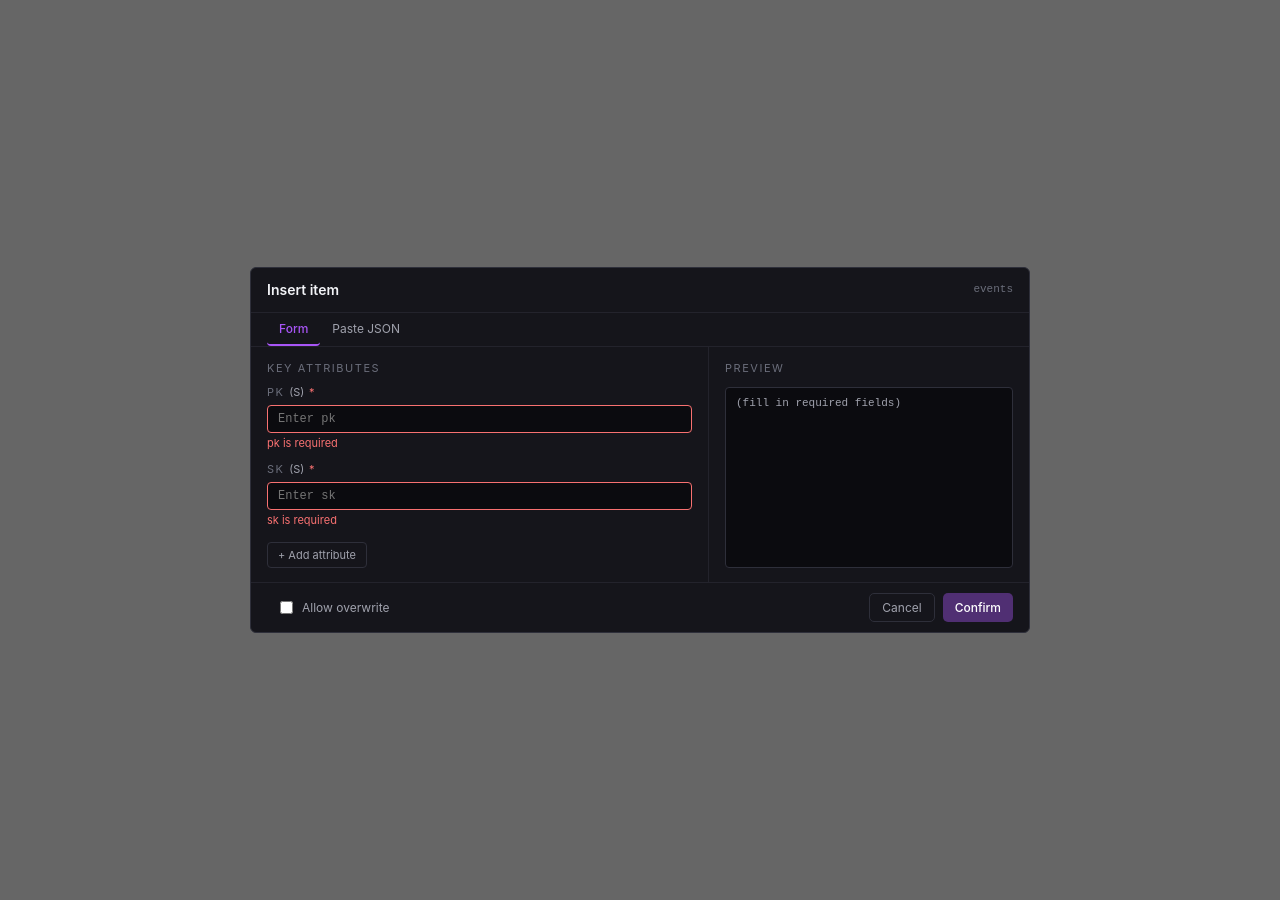
it: InsertModal — ConditionalCheckFailed UI › stays open with conflict message and highlights Allow-overwrite when ConditionalCheckFailedException
Step 1. Type "user-1" into the field with test id "key-input-pk" → (480, 419), box x1=267 y1=405 x2=692 y2=433
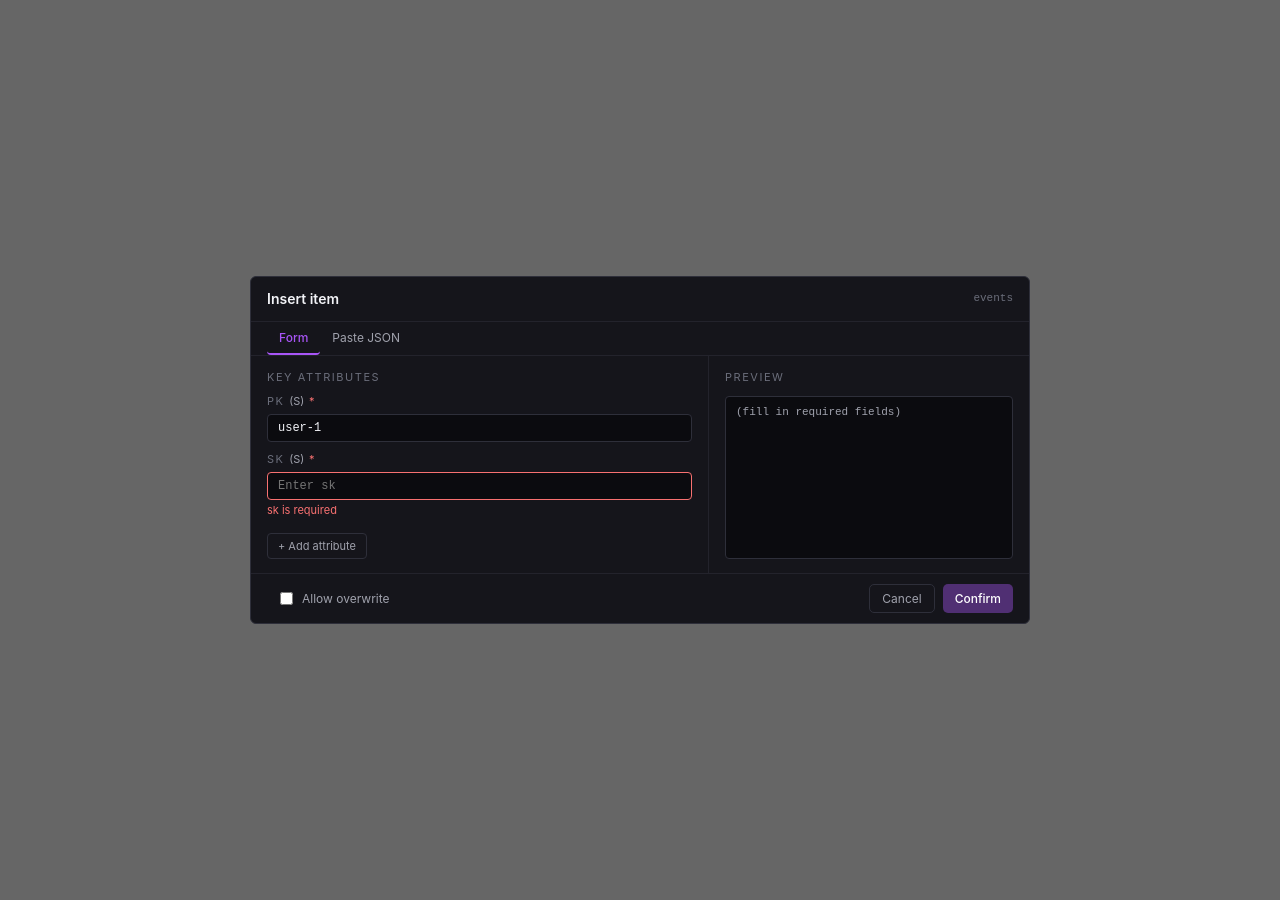
Step 2. Type "evt-1" into the field with test id "key-input-sk" → (480, 486), box x1=267 y1=472 x2=692 y2=500
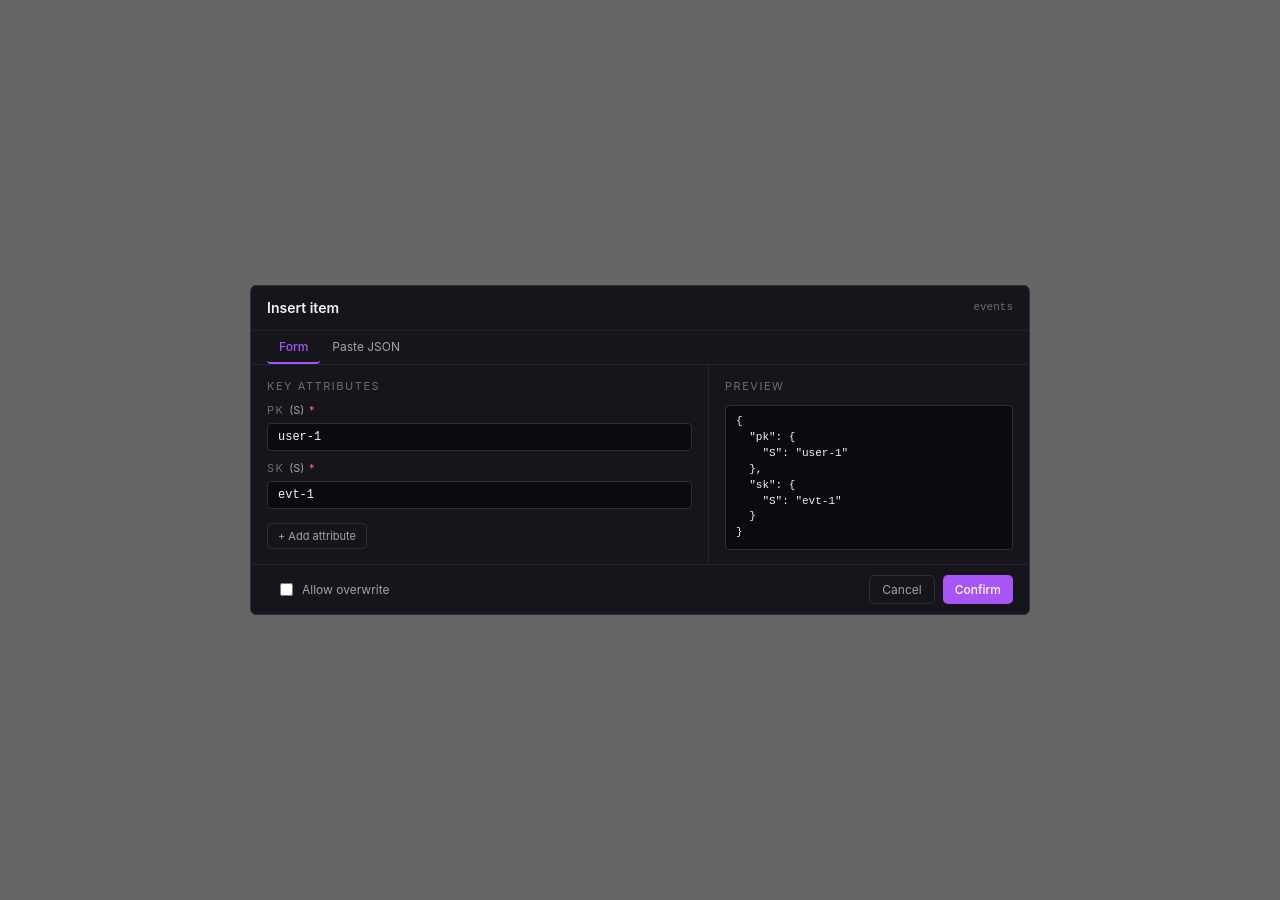
Step 3. Click the button with test id "insert-confirm-btn" → (978, 590), box x1=943 y1=575 x2=1013 y2=604
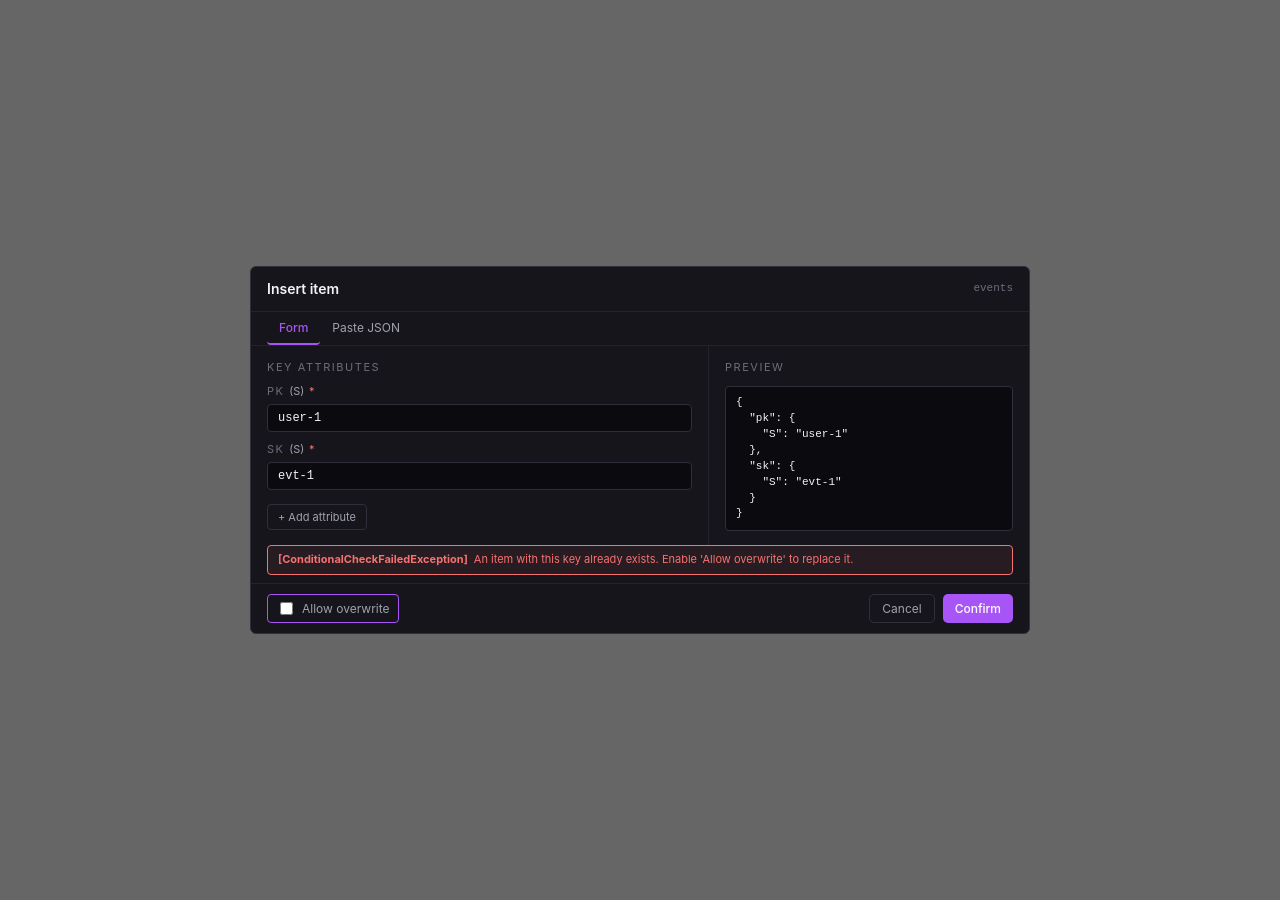
Expected: the element with test id "insert-error" is shown, x1=267 y1=545 x2=1013 y2=575
Expected: the element with test id "insert-error" shows "already exists", x1=474 y1=552 x2=853 y2=566
